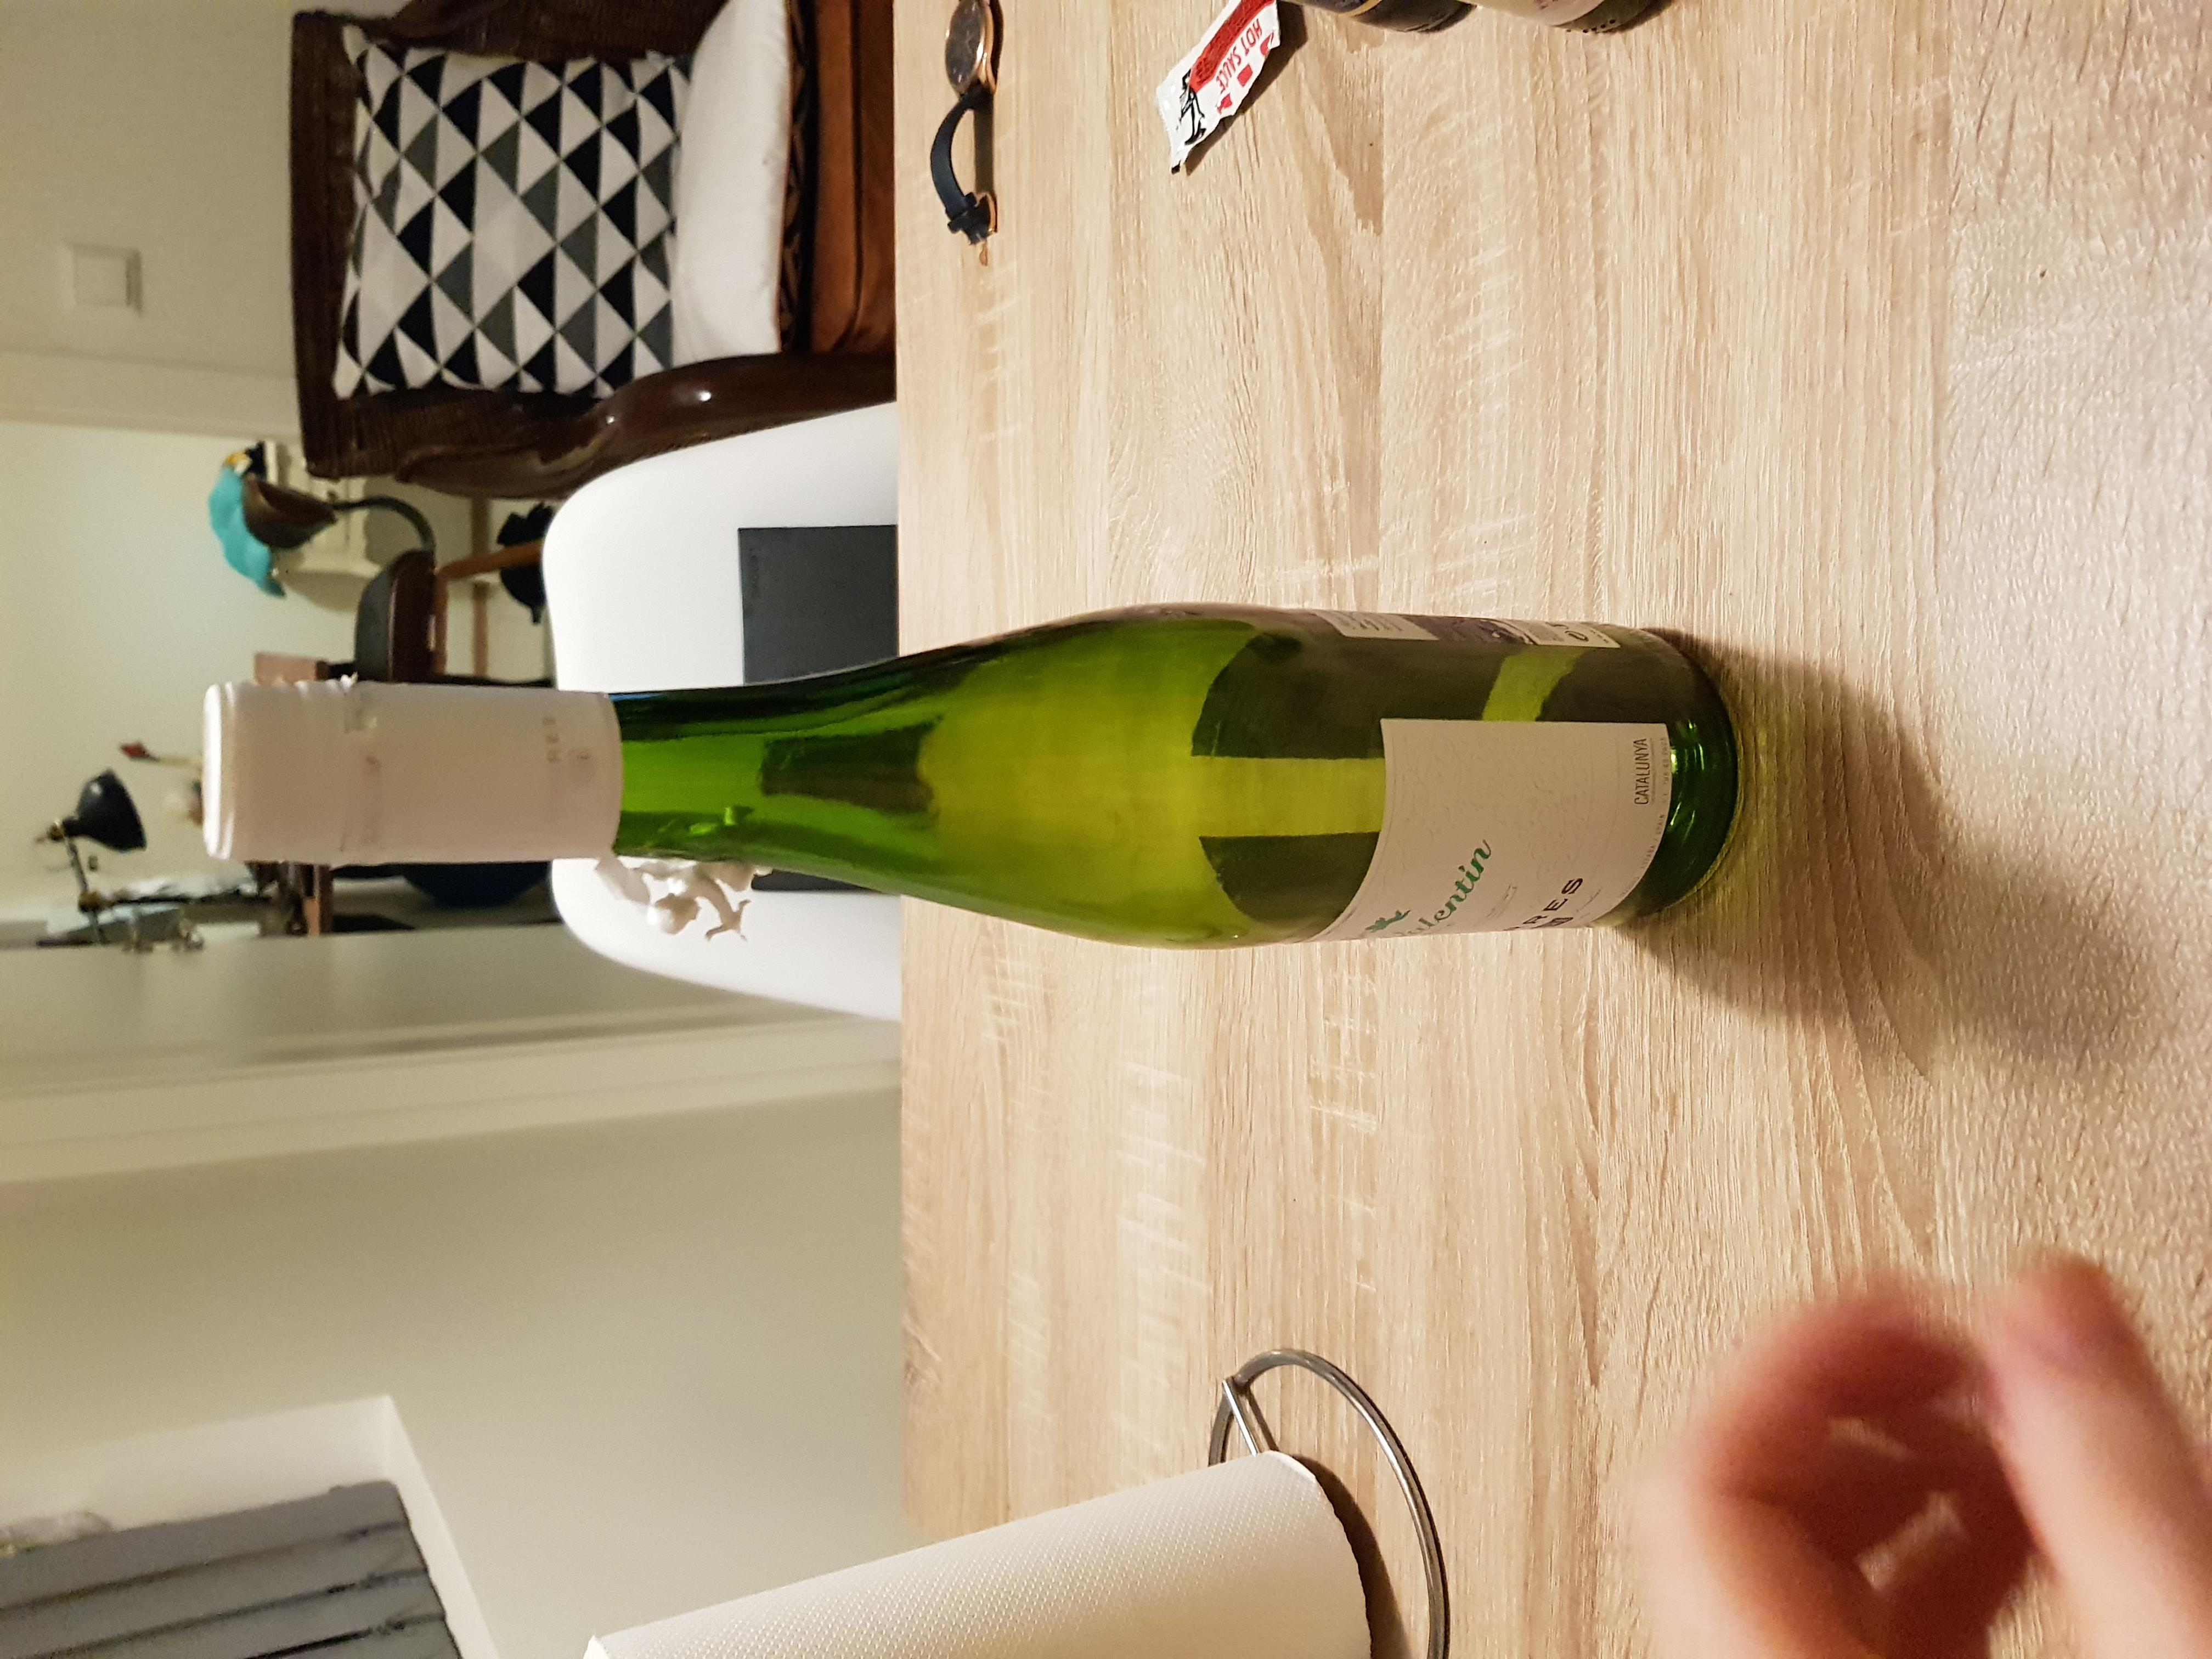Bottle: (200, 599, 1735, 945)
